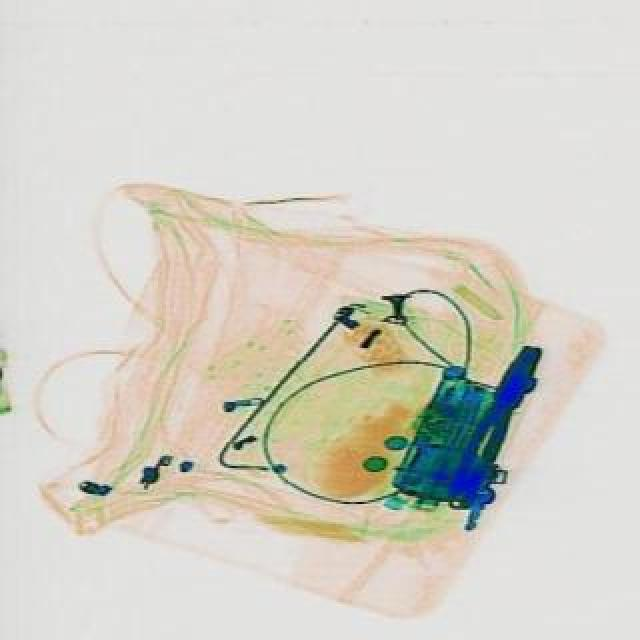wrench: (446, 336, 546, 498)
